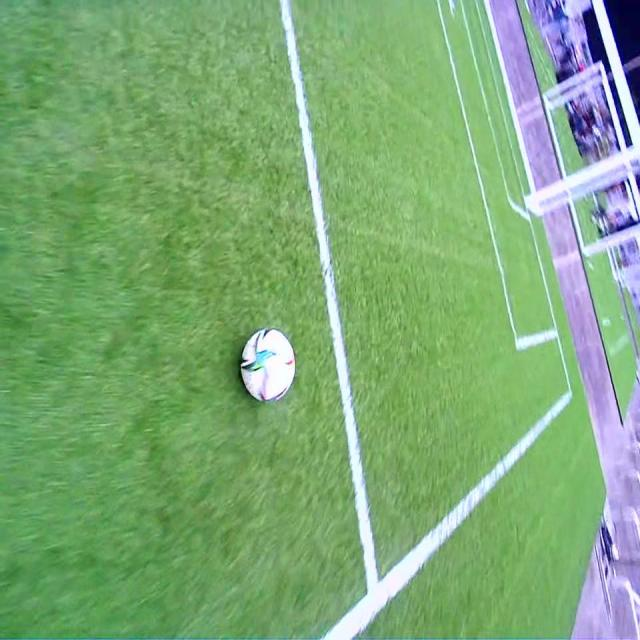ball: (242, 328, 296, 404)
